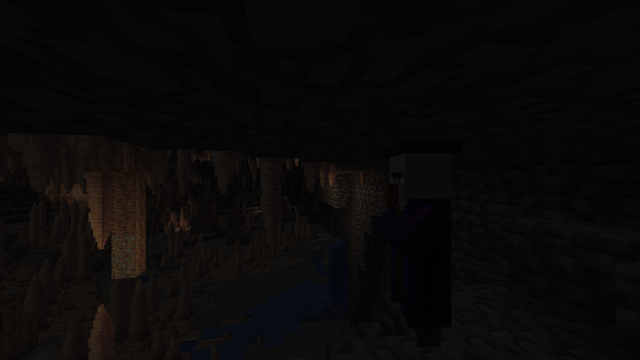sorcieres: (380, 144, 463, 355)
